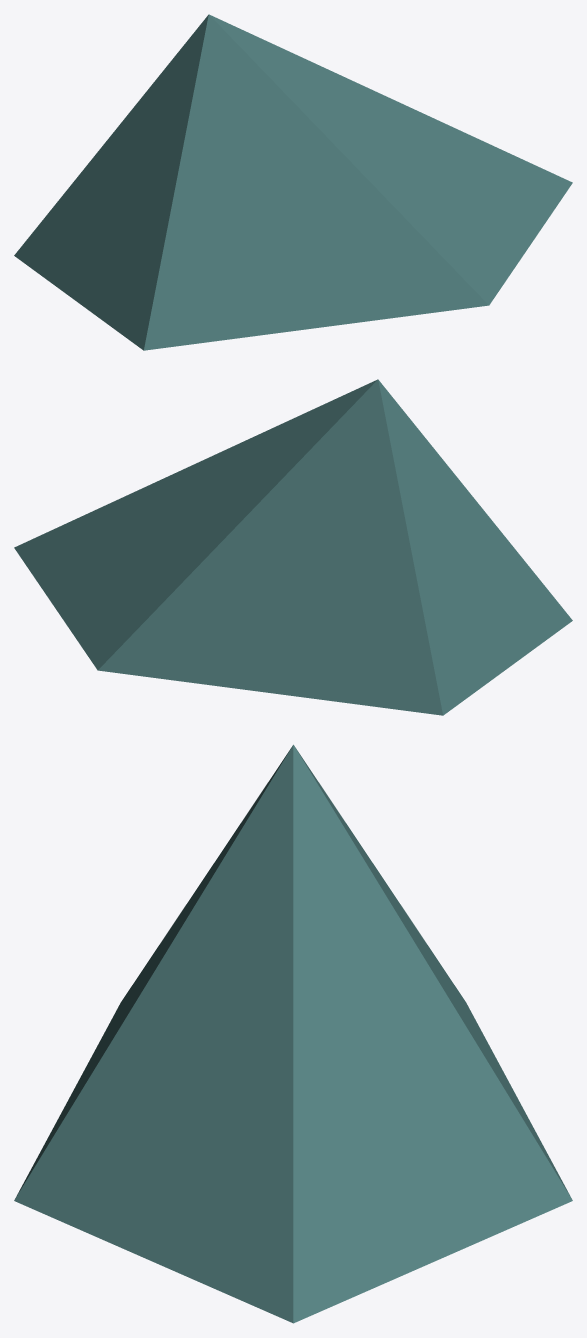
3 renders of one model, top to bottom at view 1: azimuth 30°, elevation 25°; view 2: azimuth 150°, elevation 25°; view 3: azimuth 270°, elevation 25°, orthographic. The views are drawn at different scales.
Visible parts, largest first — view 1: 原森林散石_2.001; view 2: 原森林散石_2.001; view 3: 原森林散石_2.001.
Boxes of the visible parts, x1,y1,x2,y2 form: 原森林散石_2.001: (14,14,572,350); 原森林散石_2.001: (14,379,572,715); 原森林散石_2.001: (14,744,572,1323).
Bounding box in the file's own units: 0.1085 × 0.054 × 0.0799.
